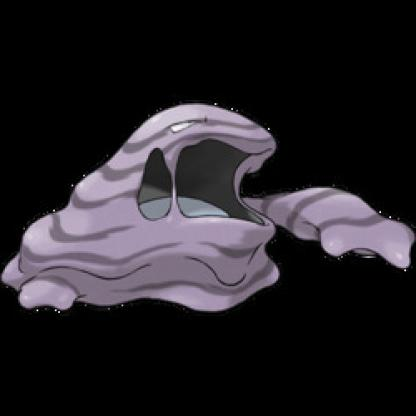Muk: (1, 92, 416, 329)
